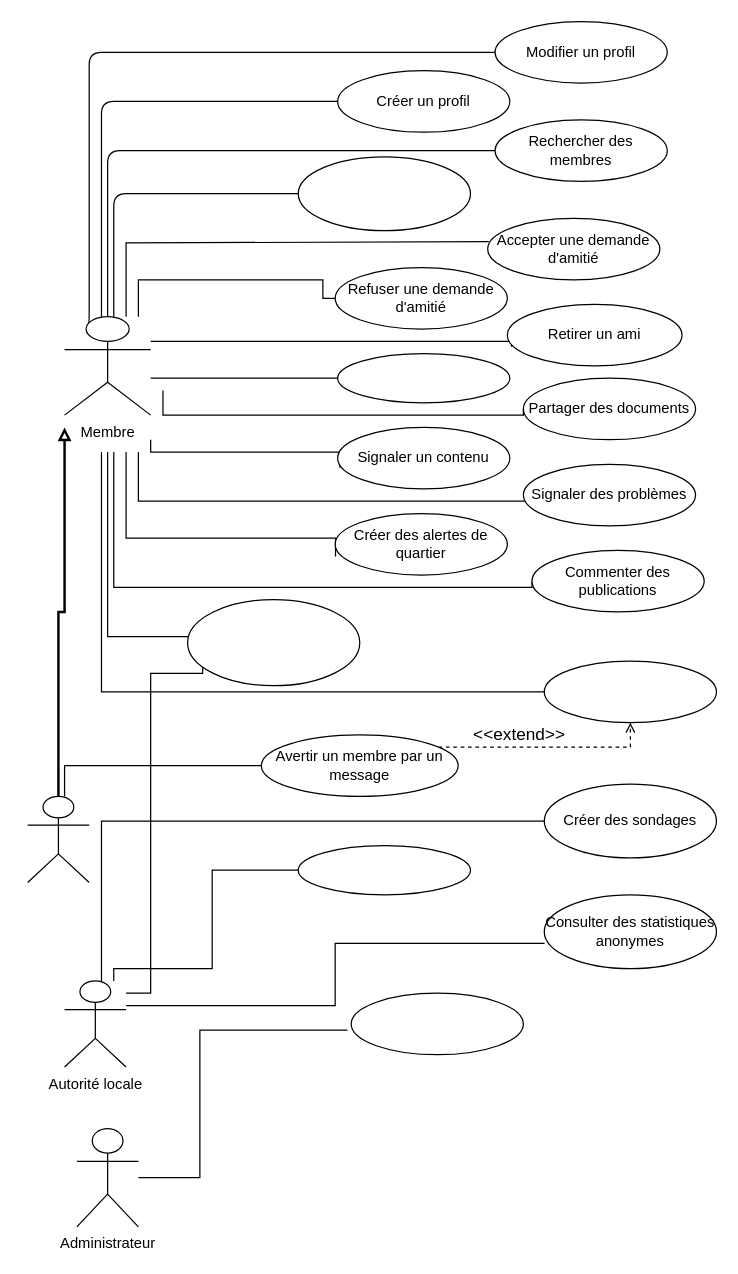
This 738x1274 diagram has some shape labels left out. Here are the shapes that lost their labels. From the top down, the centre of each, then its label:
At (x=383, y=193): "Envoyer une demande d'amitié".
At (x=423, y=377): "Planifier un évenement".
At (x=273, y=642): "Effectuer des publications".
At (x=629, y=691): "Consulter les contenus publiés".
At (x=57, y=839): "Modérateur".
At (x=383, y=869): "Planifier des notifications".
At (x=436, y=1023): "Valider l'inscription".
